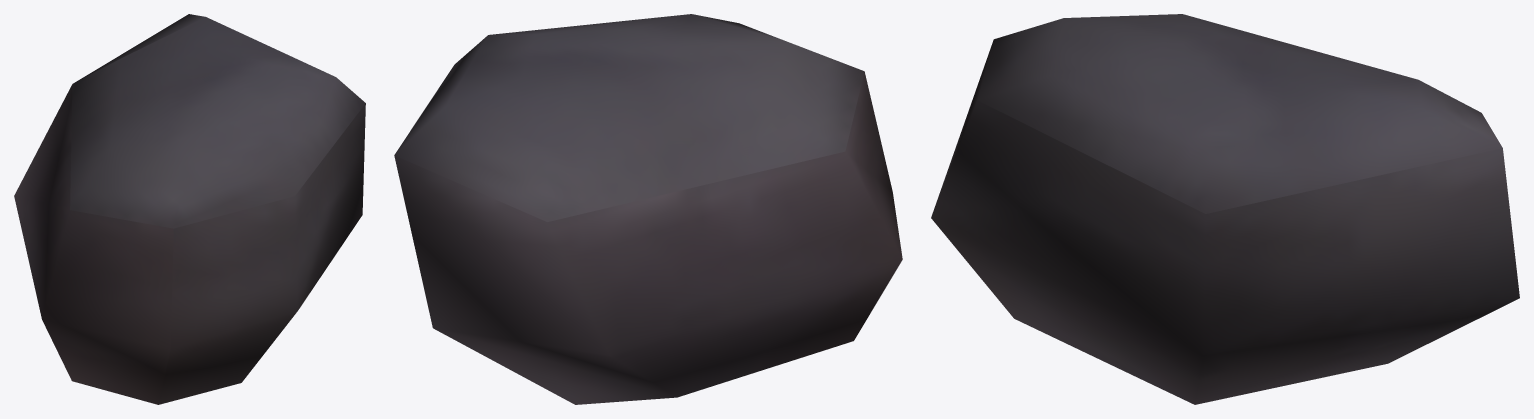
Rendered from rock_03.fbx.
3 views of the same model, side by side, from view 1: azimuth 30°, elevation 25°; view 2: azimuth 150°, elevation 25°; view 3: azimuth 270°, elevation 25° (orthographic). The views are drawn at different scales.
Visible parts, largest first — view 1: rock_03; view 2: rock_03; view 3: rock_03.
Boxes of the visible parts, x1,y1,x2,y2 form: rock_03: [14, 14, 365, 404]; rock_03: [394, 14, 902, 404]; rock_03: [931, 14, 1519, 404].
Size of the model in its own units: 42.98 by 29.33 by 47.46.
